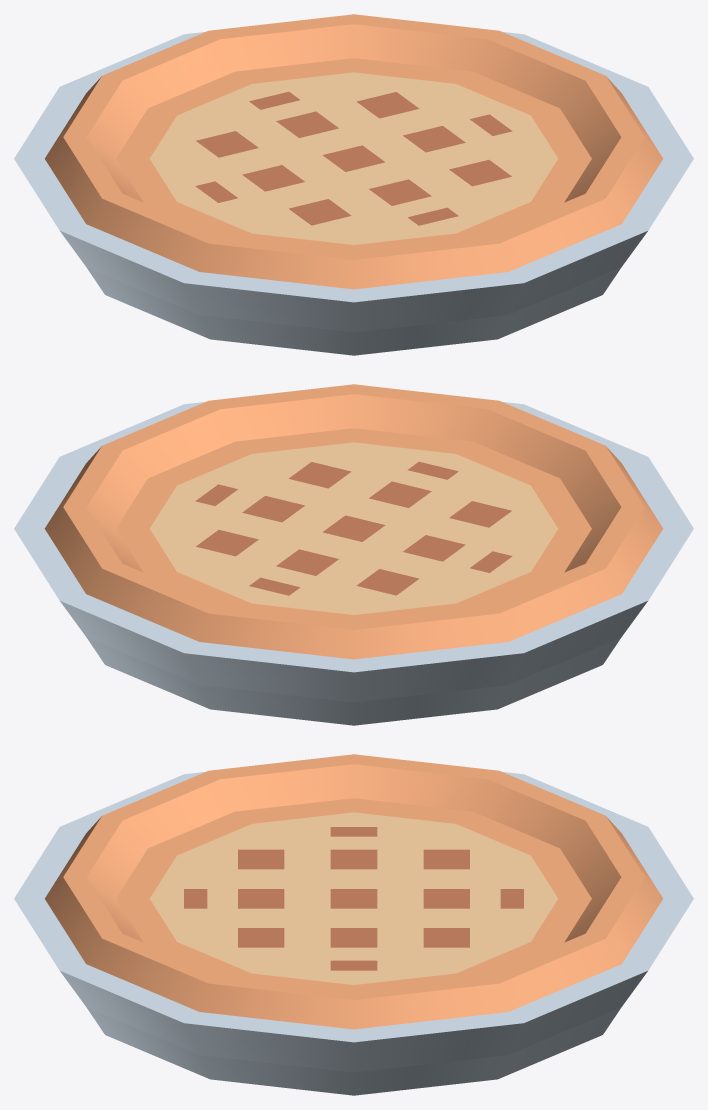
File: Pie.glb
The picture shows the model from 3 angles, top to bottom: view 1: azimuth 30°, elevation 25°; view 2: azimuth 150°, elevation 25°; view 3: azimuth 270°, elevation 25°; orthographic projection.
Parts seen in each view (by area): view 1: pie; view 2: pie; view 3: pie.
Part boxes in pixels (box(x1,y1,x2,y2)): pie: box(14, 14, 693, 355); pie: box(14, 384, 693, 725); pie: box(14, 754, 693, 1095).
Bounding box in the file's own units: 0.9504 × 0.1497 × 0.9504.
